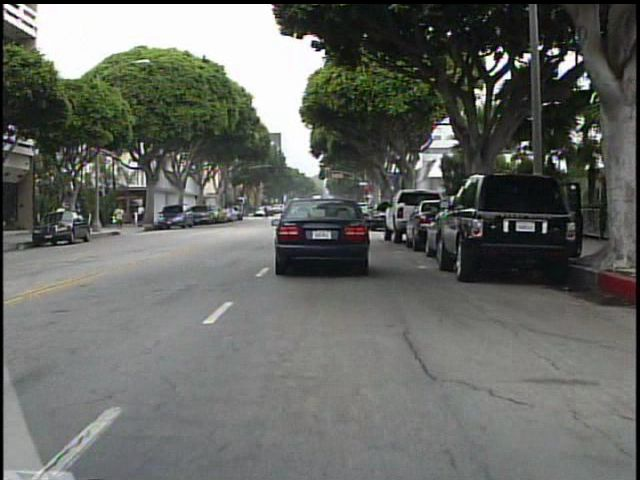person: (114, 201, 130, 235), (136, 200, 149, 229), (262, 201, 273, 222)
